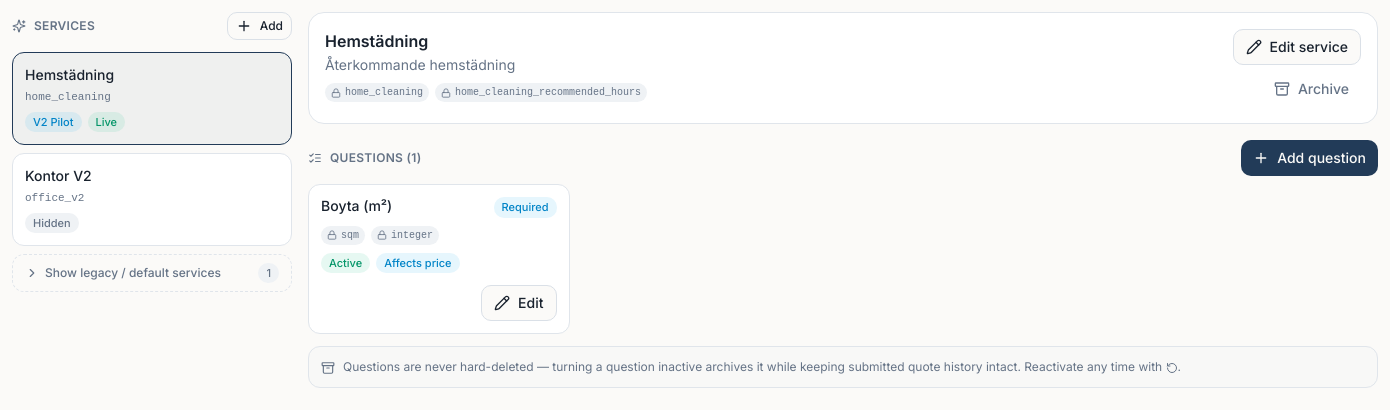
Test: ServicesFieldsEditor — GPM-3b generic services join the builder group › keeps the seeded legacy services behind the toggle (revealable, never lost)
Click the button "Show legacy / default services 1": (152, 273) [12,254,292,292]
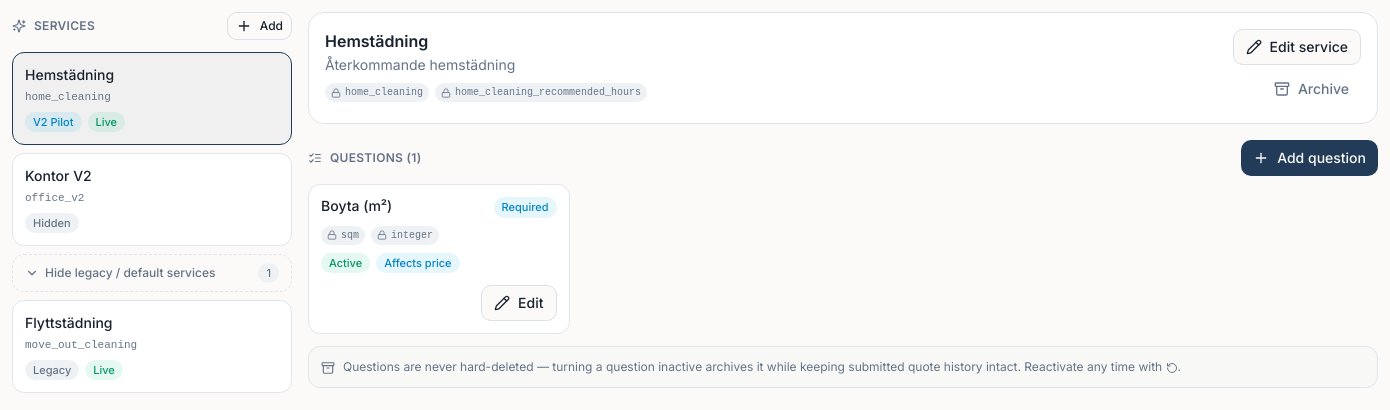
Expected: the button "Flyttstädning move_out_cleaning Legacy Live" is shown, [12,300,292,393]
